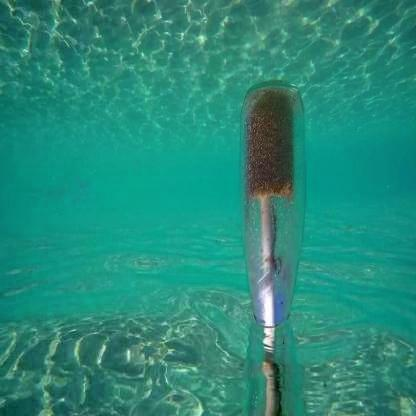gbottle: (237, 84, 304, 323)
